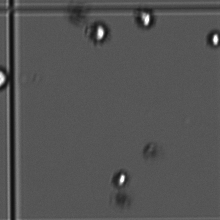Dead Cell: (141, 137, 162, 164), (66, 4, 86, 24)
Living Cell: (81, 16, 113, 47), (131, 4, 158, 31), (109, 167, 133, 190), (205, 24, 220, 55), (1, 66, 10, 91)
